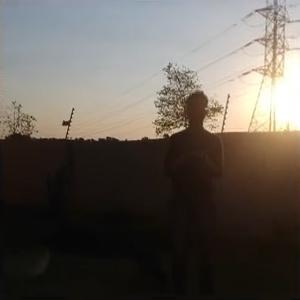follow: (158, 85, 226, 295)
